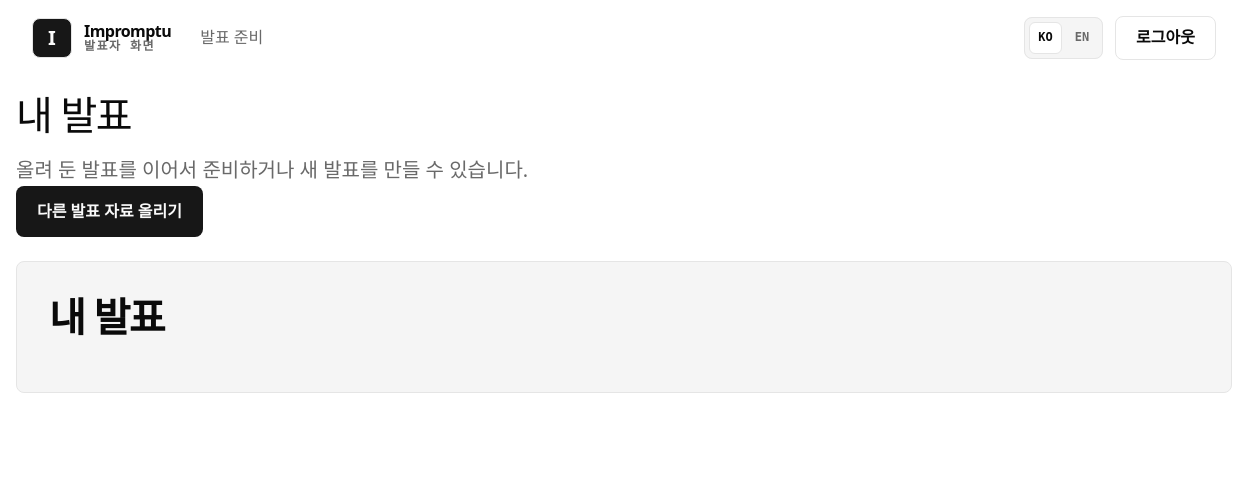
Test: Console presentation library › deletes a deck after an explicit confirm and drops the row
Click the button with aria-label "English": (1082, 38) [1066, 22, 1098, 54]
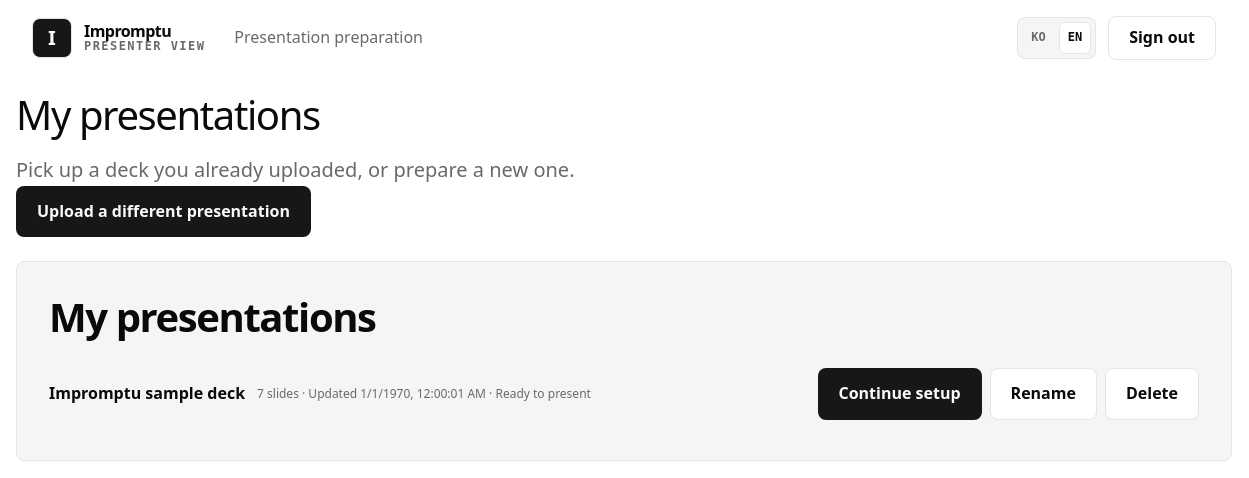
Result: the text "Impromptu sample deck" is shown at [49, 381, 245, 407]
Click the button "Delete": (1152, 394) [1105, 368, 1199, 420]
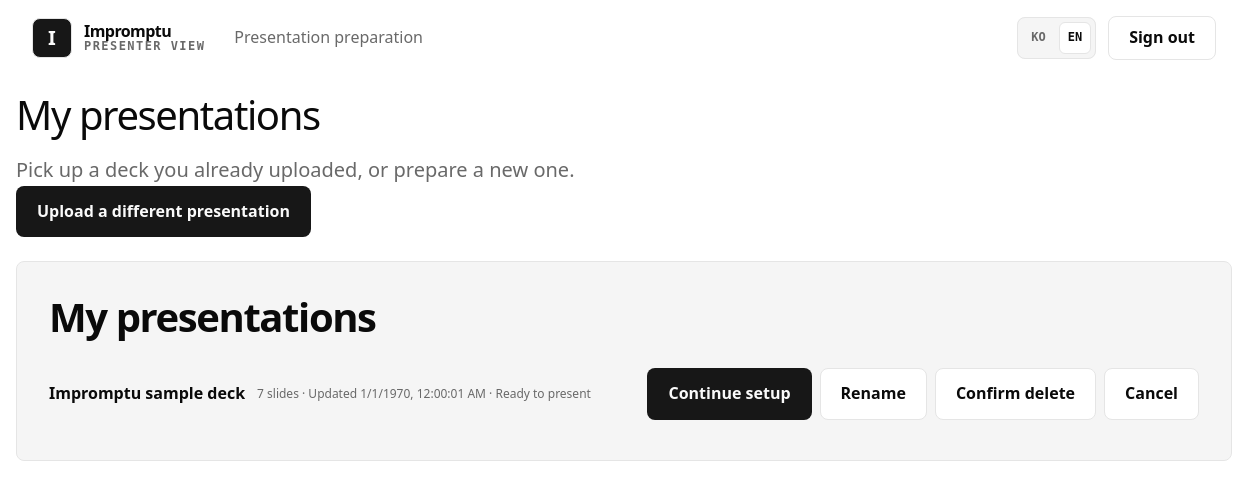
Click the button "Confirm delete": (1015, 394) [935, 368, 1096, 420]
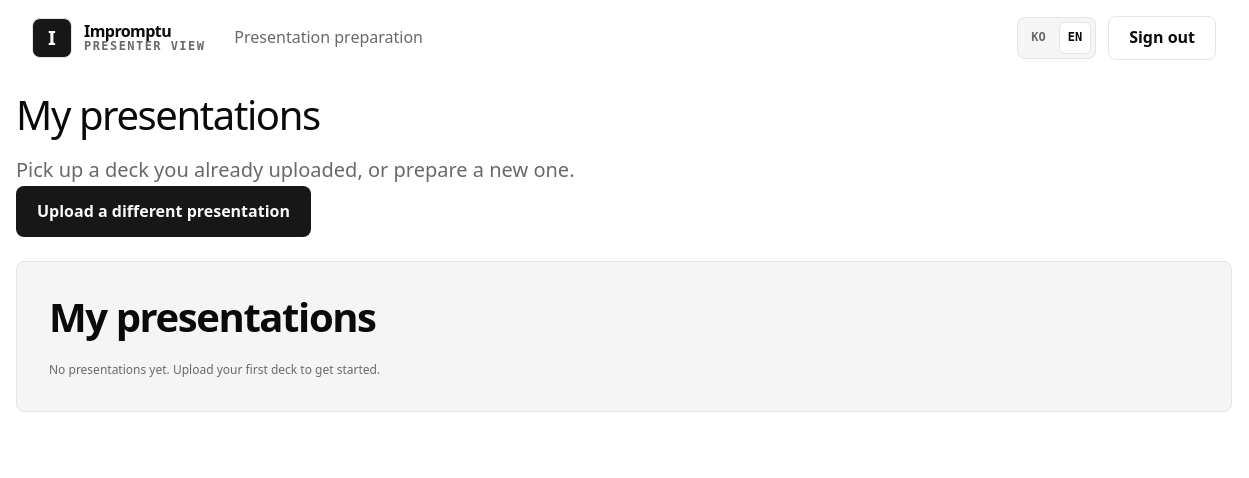
Result: the text "Impromptu sample deck" is gone
